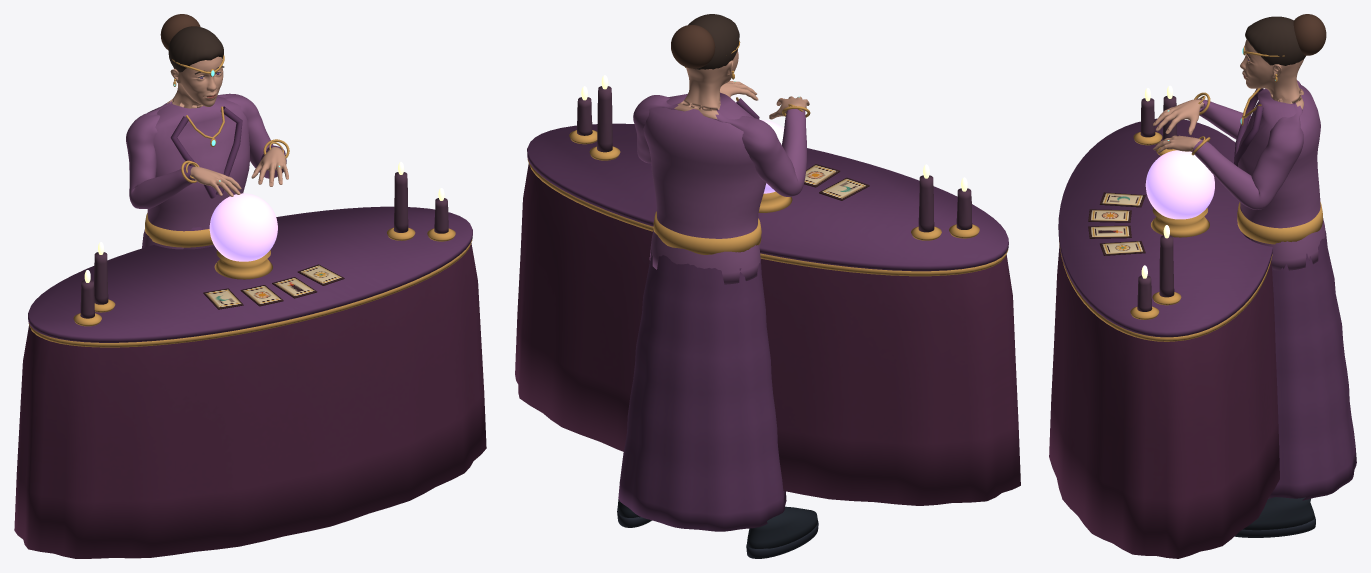
The model's file is char_hr_veronika.glb.
3 views of the same model, side by side, from view 1: azimuth 30°, elevation 25°; view 2: azimuth 150°, elevation 25°; view 3: azimuth 270°, elevation 25° (orthographic). The views are drawn at different scales.
Visible parts, largest first — view 1: char_hr_veronika; view 2: char_hr_veronika; view 3: char_hr_veronika.
Boxes of the visible parts, <box> form: char_hr_veronika: <box>14,14,486,558</box>; char_hr_veronika: <box>515,14,1020,558</box>; char_hr_veronika: <box>1049,14,1356,558</box>.
Bounding box in the file's own units: 1.7 × 1.68 × 0.9758.
Materials: 18 (18 with a texture image).
